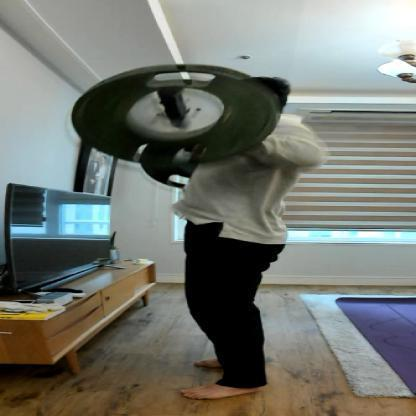barbell: (70, 61, 280, 190)
